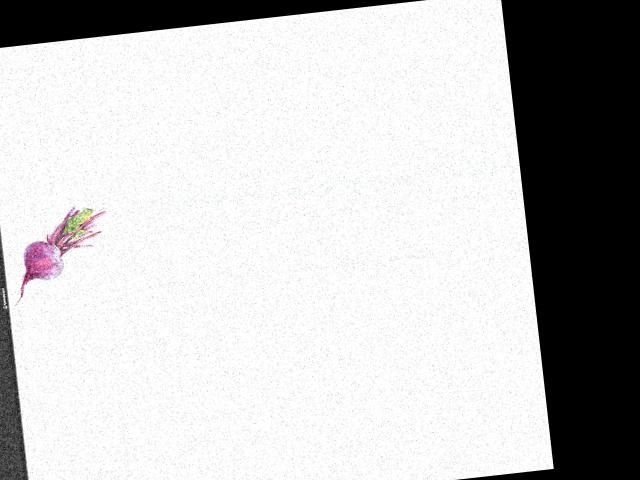beet: (3, 203, 115, 306)
